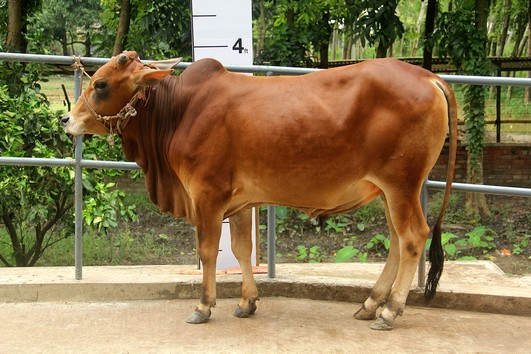cow: (60, 44, 460, 330)
